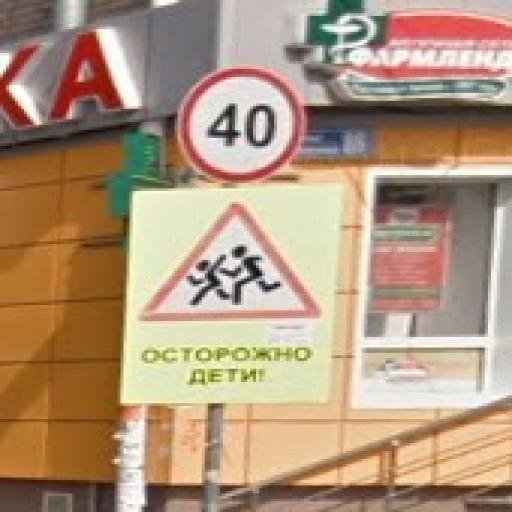traffic_sign: (140, 200, 326, 327), (173, 65, 305, 187)
